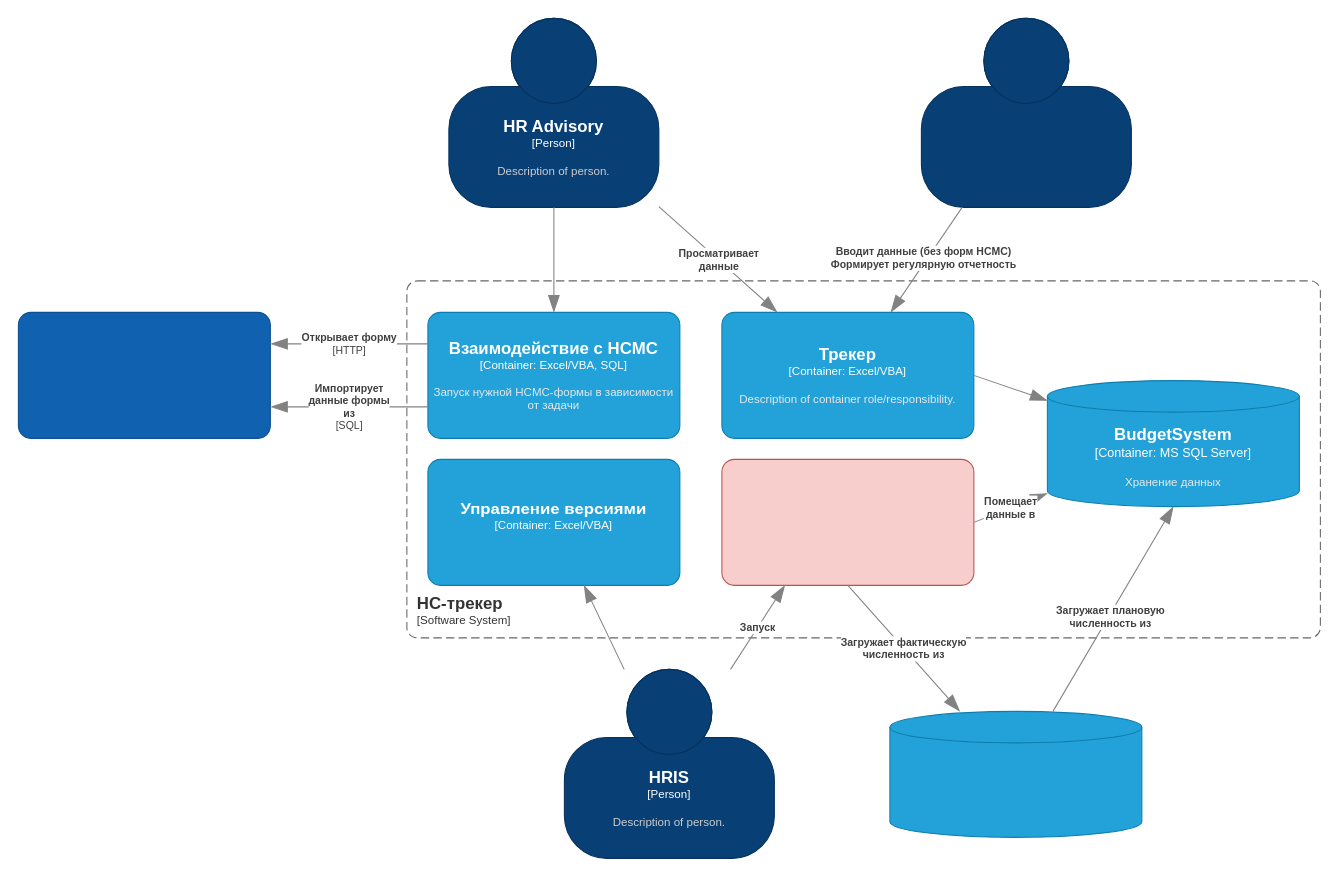
This 1339x877 diagram has some shape labels left out. Each missing label, with the centre of its shape:
"HCMC [Software System]" belongs at (x=143, y=374).
"HR Reward [Person] Description of person." belongs at (x=1025, y=112).
"HRPT DWH [Container: MS SQL Server] Хранилище HR данных" belongs at (x=1015, y=773).
"Загрузка из HRPT [Container: MS SQL Server/Procedure] Фактическая численность" belongs at (x=847, y=521).
